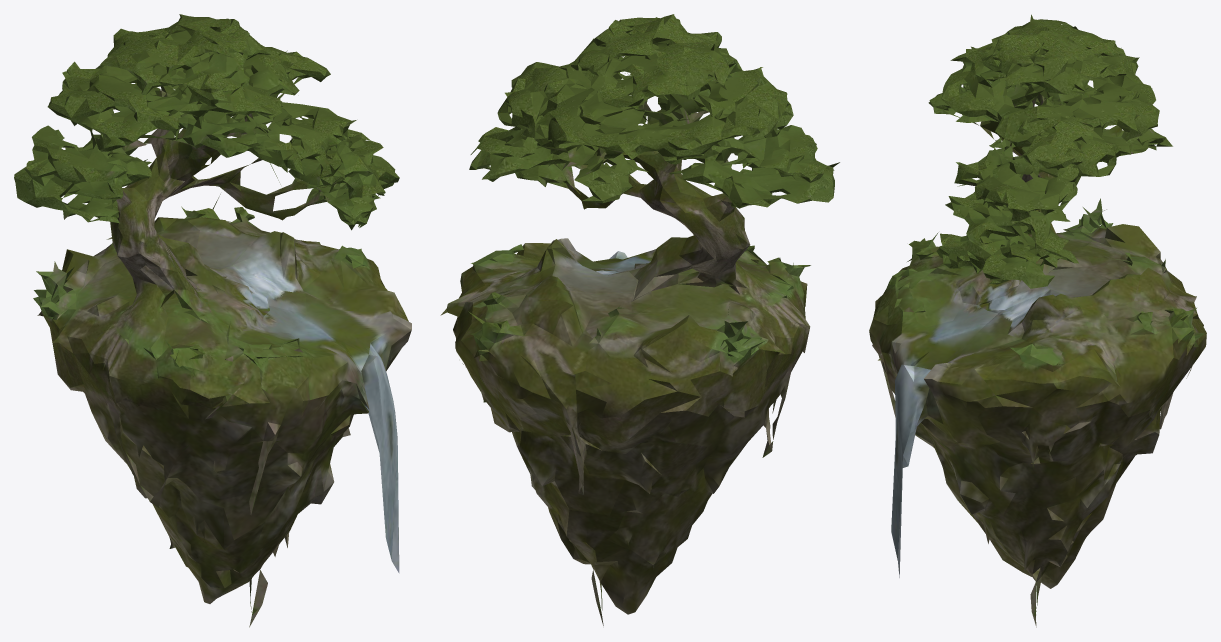
File: sp_m_island.glb
3 renders of one model, left to right at view 1: azimuth 30°, elevation 25°; view 2: azimuth 150°, elevation 25°; view 3: azimuth 270°, elevation 25°, orthographic. The views are drawn at different scales.
Visible parts, largest first — view 1: output_unwrapped; view 2: output_unwrapped; view 3: output_unwrapped.
Part boxes in pixels (x1,y1,x2,y2): output_unwrapped: (14,14,411,627); output_unwrapped: (440,14,839,625); output_unwrapped: (869,14,1206,627).
Size of the model in its own units: 1.08 by 1.74 by 0.9362.
Materials: 1 (1 with a texture image).
